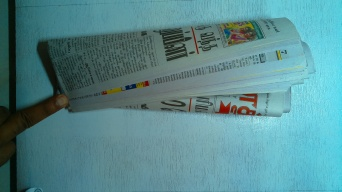p: (46, 15, 318, 128)
